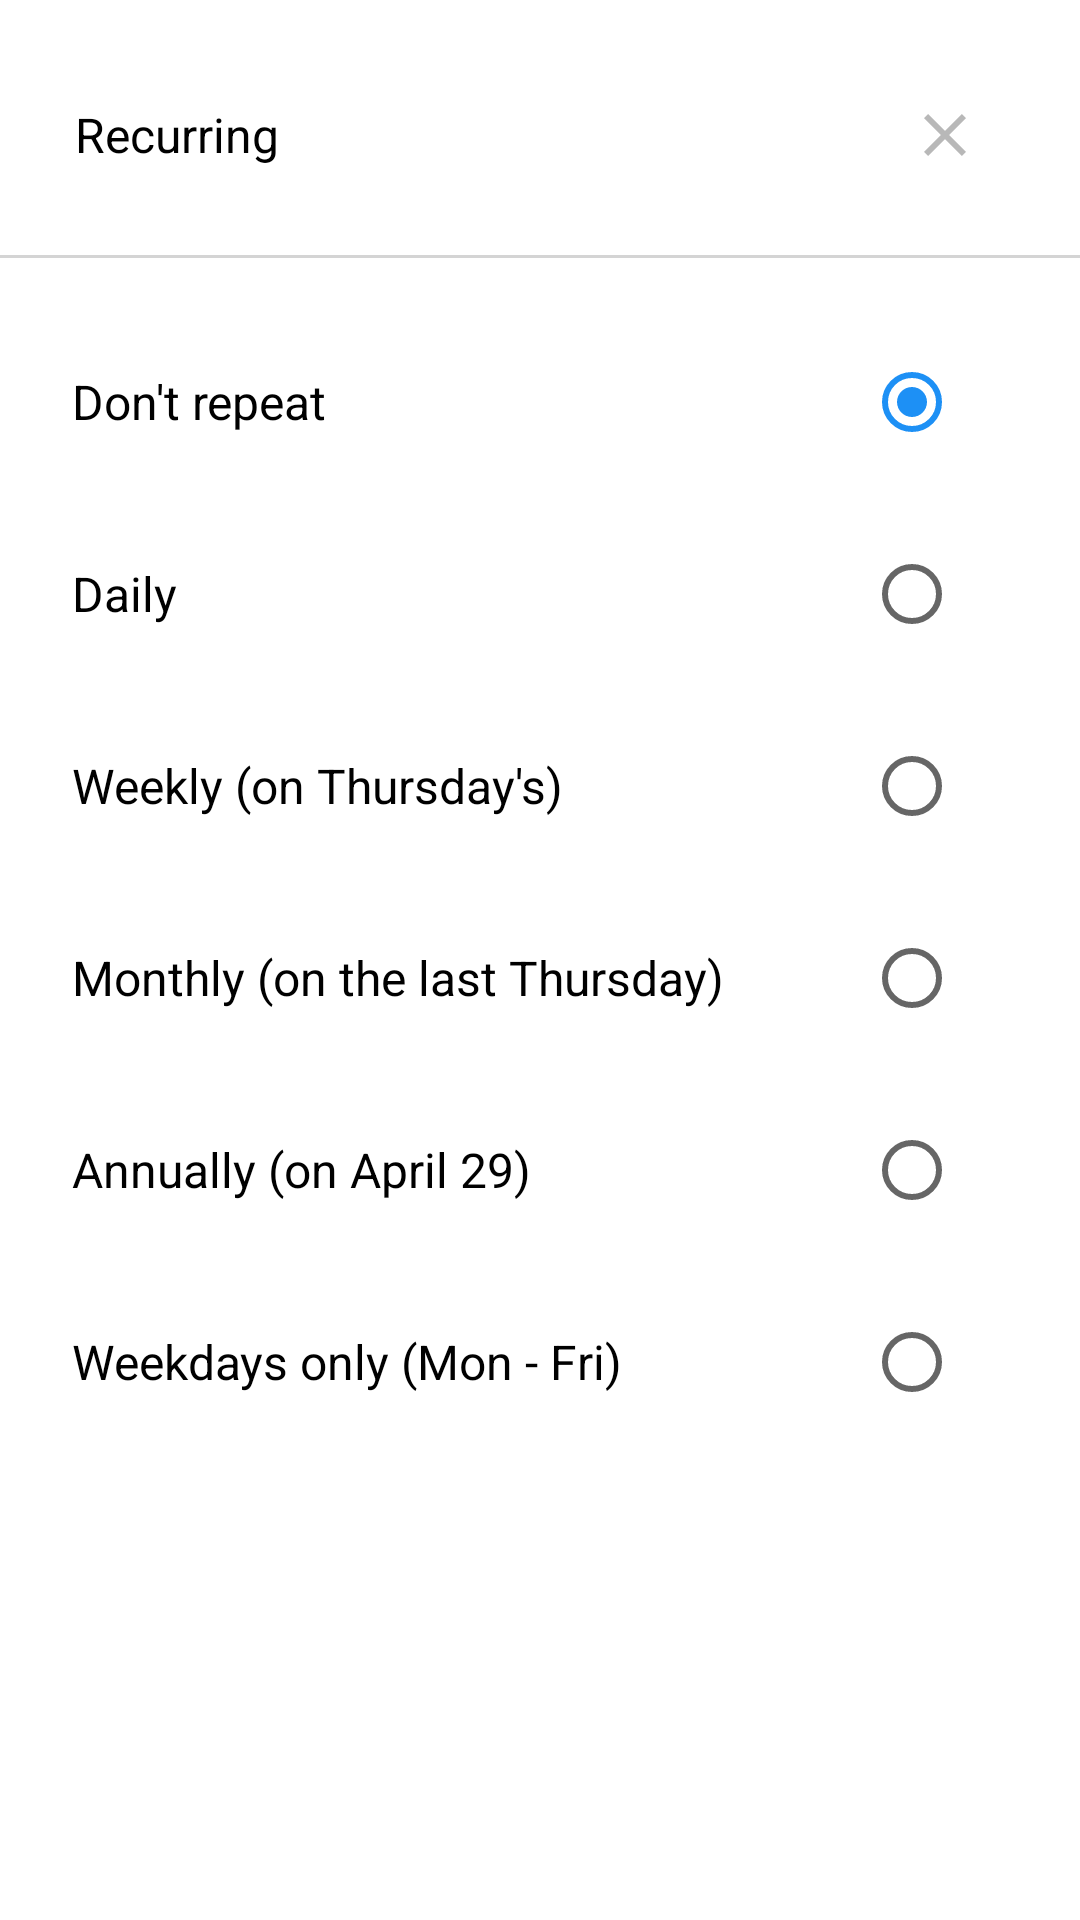

Where to tap for icons on this 1080w x 1920h app screen, as (x=x, y=y):
close: (x=945, y=135)
